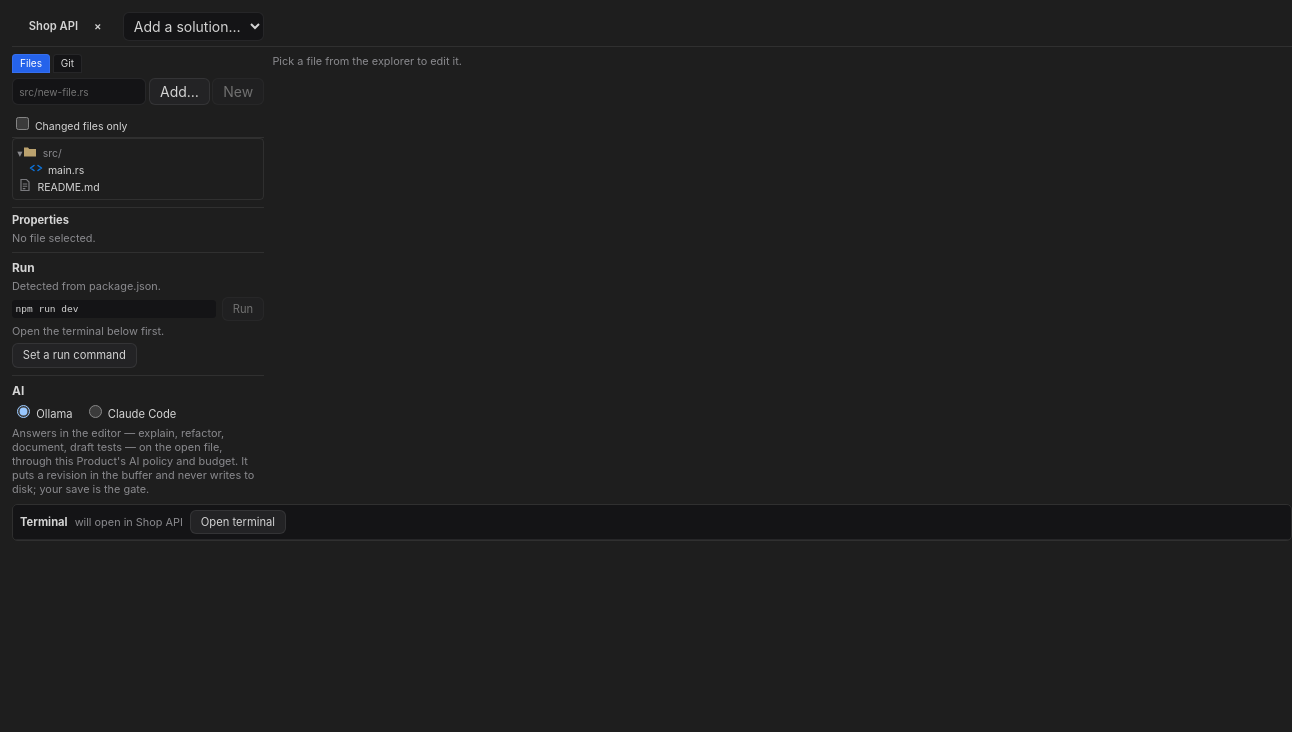
Test: CodeEditor › closes a solution and falls back to another open one
Select "Shop Web" in the dropdown named "Add a solution": [193, 27] box x1=123 y1=12 x2=264 y2=41
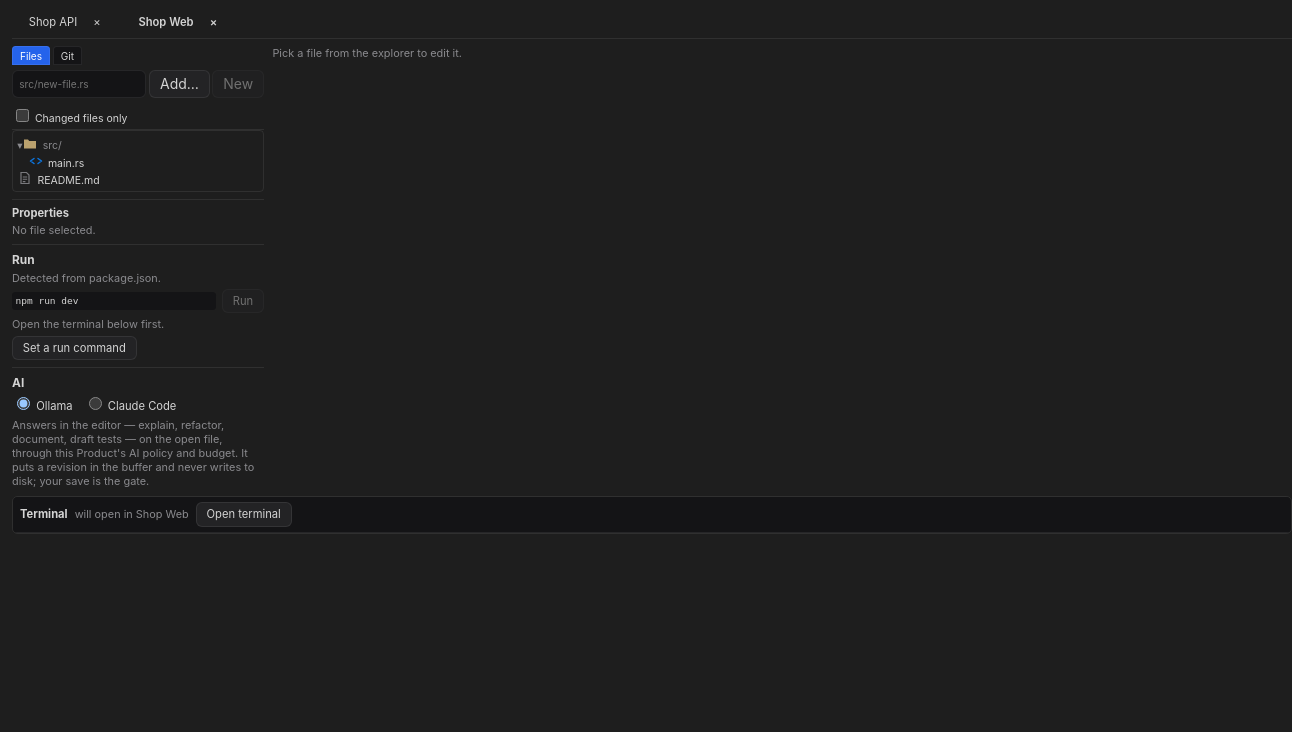
expect the button with aria-label "Show Shop Web" is shown: met, box x1=134 y1=12 x2=198 y2=32
Click the button named "Close Shop Web": [213, 22] box x1=205 y1=12 x2=222 y2=32
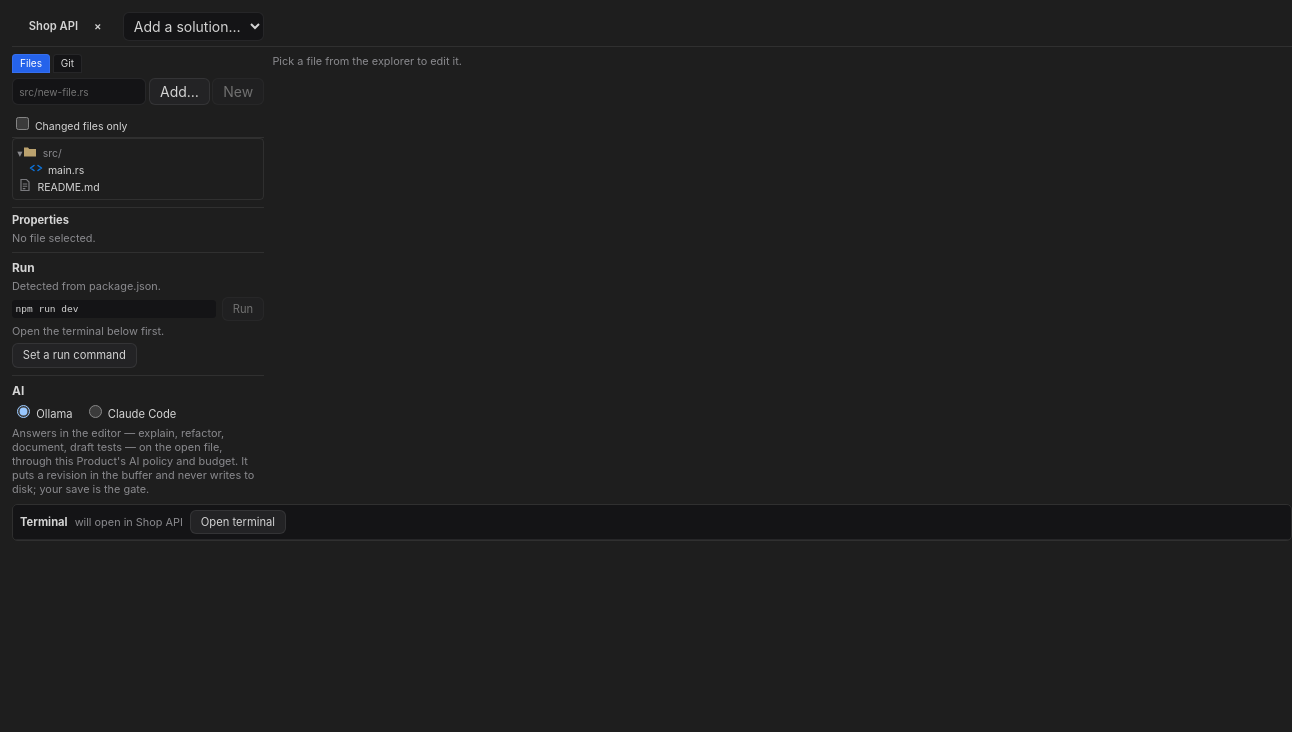
expect the list named "Files in Shop API" is shown: met, box x1=12 y1=138 x2=264 y2=200
